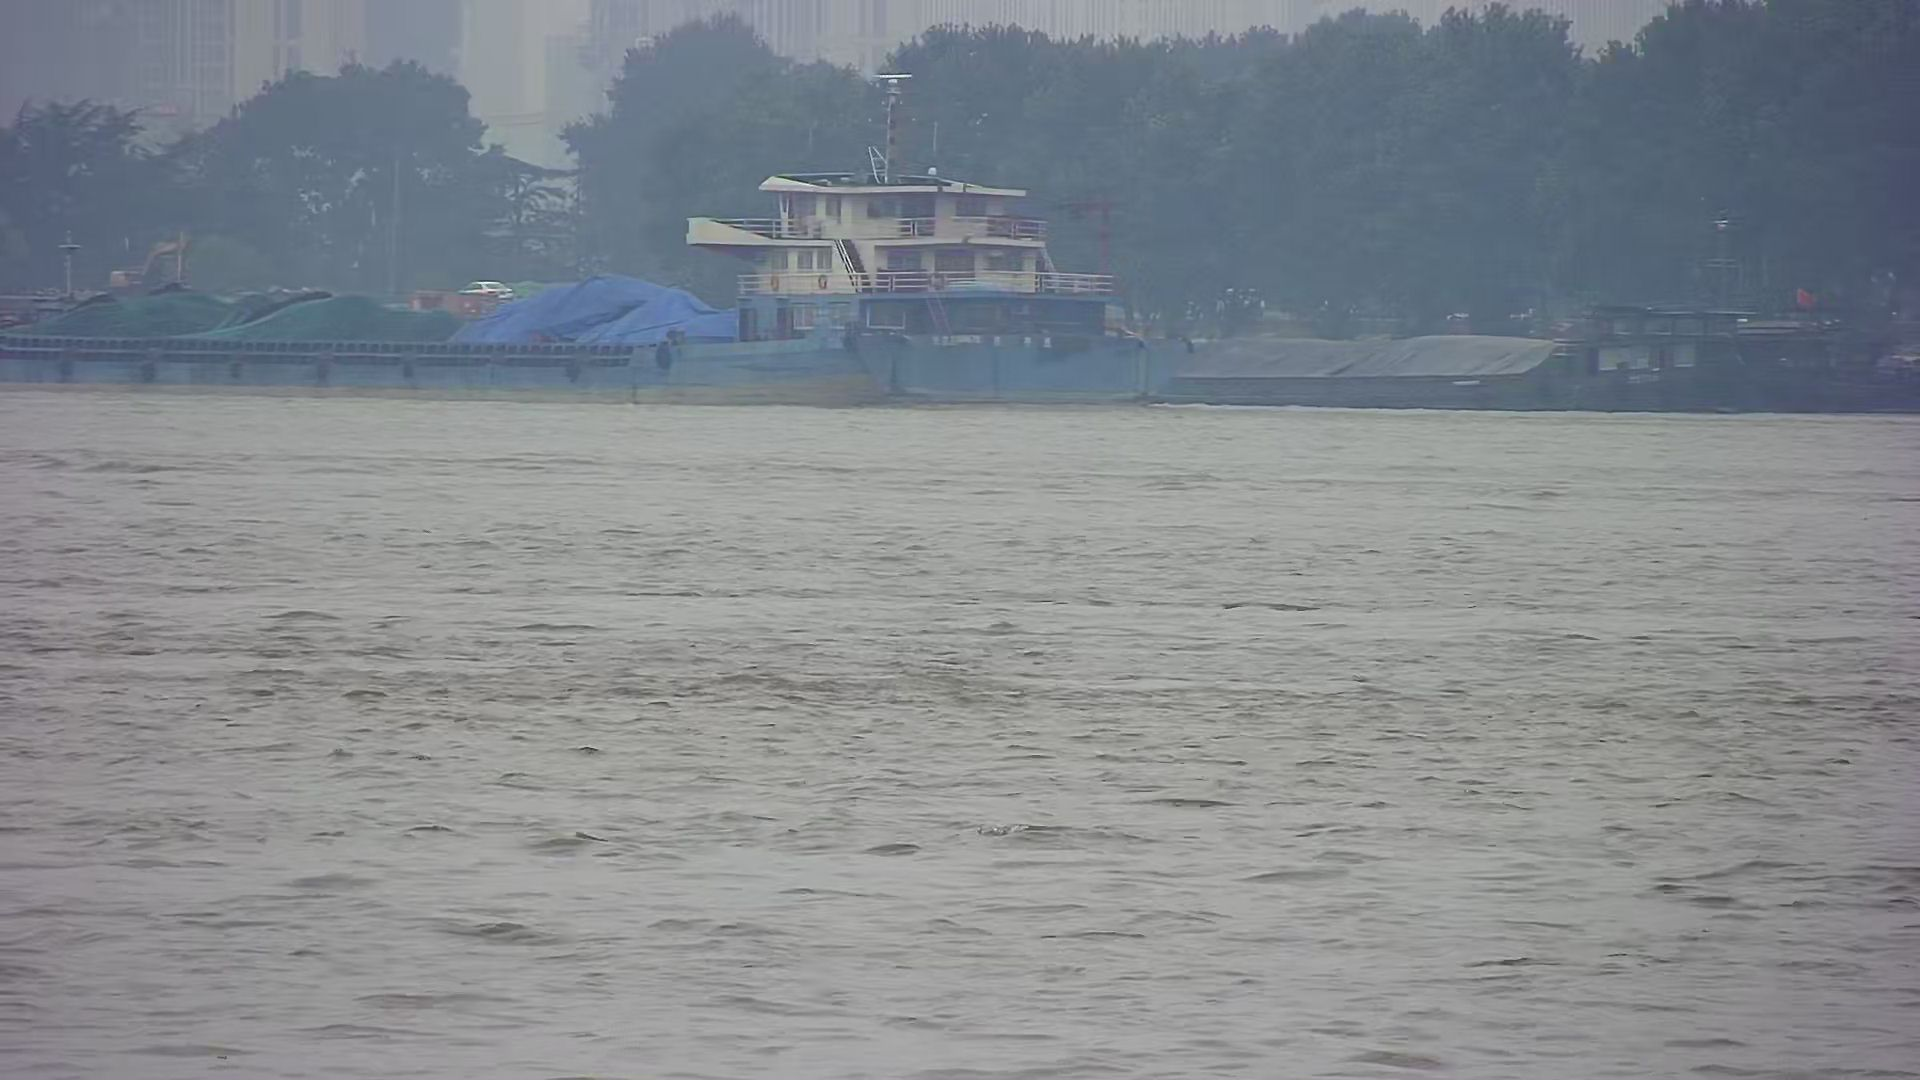ship: (1, 55, 1195, 410), (1143, 274, 1882, 418)
